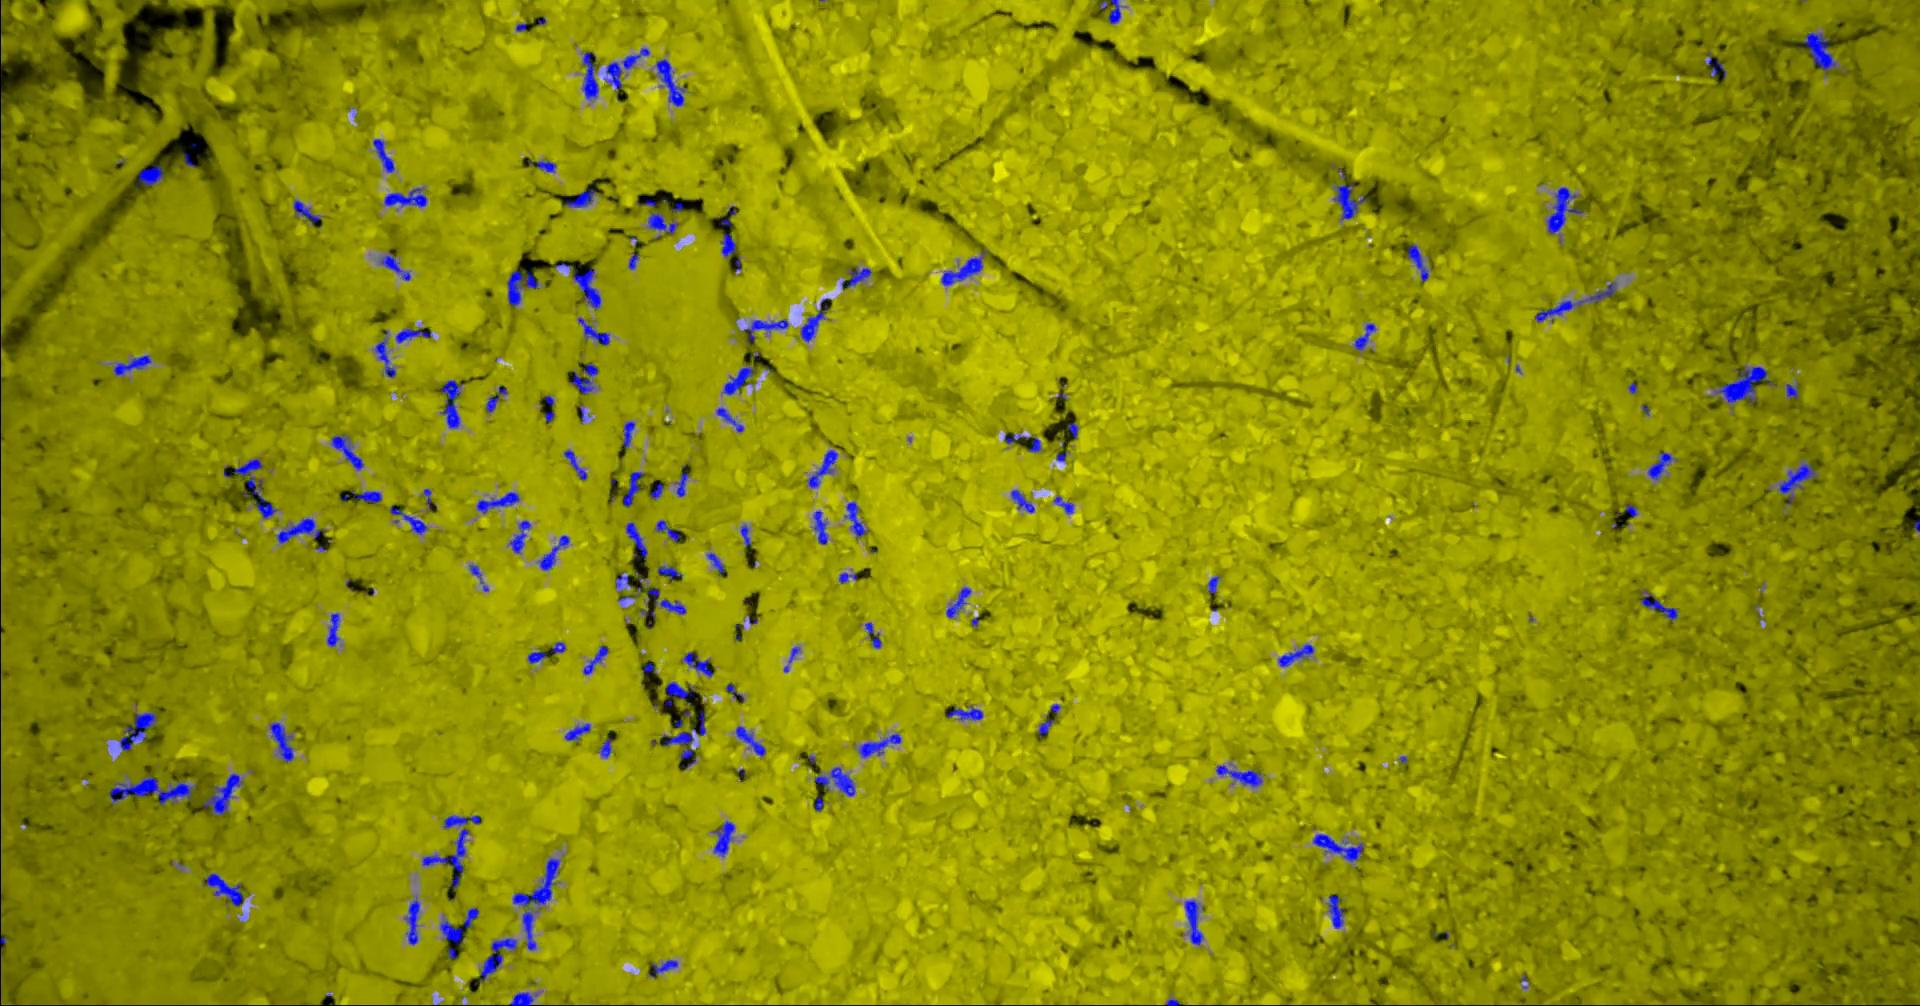ant: (422, 815, 480, 888), (1534, 281, 1615, 323), (109, 775, 196, 805), (232, 459, 276, 518), (662, 710, 705, 768), (604, 47, 649, 93), (1716, 366, 1768, 404), (1545, 185, 1583, 232), (477, 937, 516, 982), (940, 249, 987, 285), (203, 774, 243, 815), (1778, 462, 1816, 504), (1312, 833, 1363, 862), (439, 907, 477, 944), (655, 58, 684, 105), (119, 713, 156, 749), (800, 297, 830, 342), (202, 873, 243, 906), (1803, 30, 1835, 71), (276, 517, 325, 542), (1333, 183, 1368, 218), (505, 269, 538, 306), (742, 318, 789, 343), (814, 767, 855, 796), (806, 448, 837, 486), (571, 268, 599, 309), (1641, 589, 1677, 620), (389, 504, 427, 533), (439, 380, 462, 428), (331, 434, 363, 469), (538, 535, 569, 570), (857, 733, 902, 757), (1215, 765, 1261, 786), (269, 721, 293, 762), (375, 330, 395, 377), (648, 588, 684, 614), (476, 492, 519, 513), (577, 318, 610, 345), (380, 250, 410, 279), (569, 363, 598, 394), (383, 185, 425, 206), (723, 367, 754, 394), (1183, 899, 1203, 944), (735, 727, 764, 754), (844, 500, 867, 536), (625, 522, 648, 558), (1277, 643, 1313, 666), (945, 586, 970, 617), (582, 51, 598, 99), (1407, 244, 1429, 281), (582, 645, 608, 674), (113, 354, 151, 375), (712, 821, 734, 856), (681, 652, 712, 676), (404, 895, 419, 944), (563, 448, 585, 480), (372, 138, 394, 171), (1647, 451, 1672, 479), (841, 265, 871, 288), (622, 471, 643, 506), (509, 520, 530, 553), (293, 199, 320, 224), (716, 406, 743, 431), (1004, 433, 1040, 451), (648, 211, 677, 232), (665, 681, 695, 702), (563, 188, 596, 207), (135, 164, 163, 185), (1354, 323, 1375, 351), (1327, 894, 1343, 929), (1010, 489, 1034, 512), (485, 386, 507, 412), (395, 326, 430, 342), (946, 705, 982, 720), (648, 959, 677, 977), (469, 564, 488, 591), (1098, 0, 1120, 23), (657, 520, 679, 541), (1705, 52, 1724, 77), (564, 723, 590, 741), (813, 511, 827, 544), (863, 622, 881, 648), (326, 612, 339, 647), (339, 492, 381, 502), (719, 232, 735, 257), (508, 991, 536, 1005), (783, 647, 799, 672), (1053, 495, 1073, 513), (706, 553, 724, 573), (528, 159, 555, 171), (657, 565, 681, 579), (725, 683, 743, 701), (720, 205, 735, 225), (598, 737, 613, 757), (622, 420, 634, 447), (676, 473, 688, 495), (1037, 718, 1053, 737), (423, 488, 436, 509), (543, 395, 554, 422), (615, 572, 629, 591), (740, 525, 750, 546), (527, 652, 546, 663), (650, 481, 663, 498), (838, 572, 856, 583), (1208, 575, 1219, 593), (1067, 422, 1078, 438), (549, 641, 565, 653), (1785, 384, 1797, 398), (1625, 503, 1637, 517), (629, 253, 637, 269), (813, 796, 823, 810)
